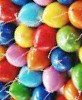Balloon: (42, 2, 69, 28), (56, 26, 82, 53), (17, 3, 44, 27), (42, 67, 66, 93), (34, 25, 55, 51), (50, 48, 72, 71), (18, 66, 42, 86), (27, 48, 48, 69), (14, 26, 34, 48), (6, 45, 26, 65)
